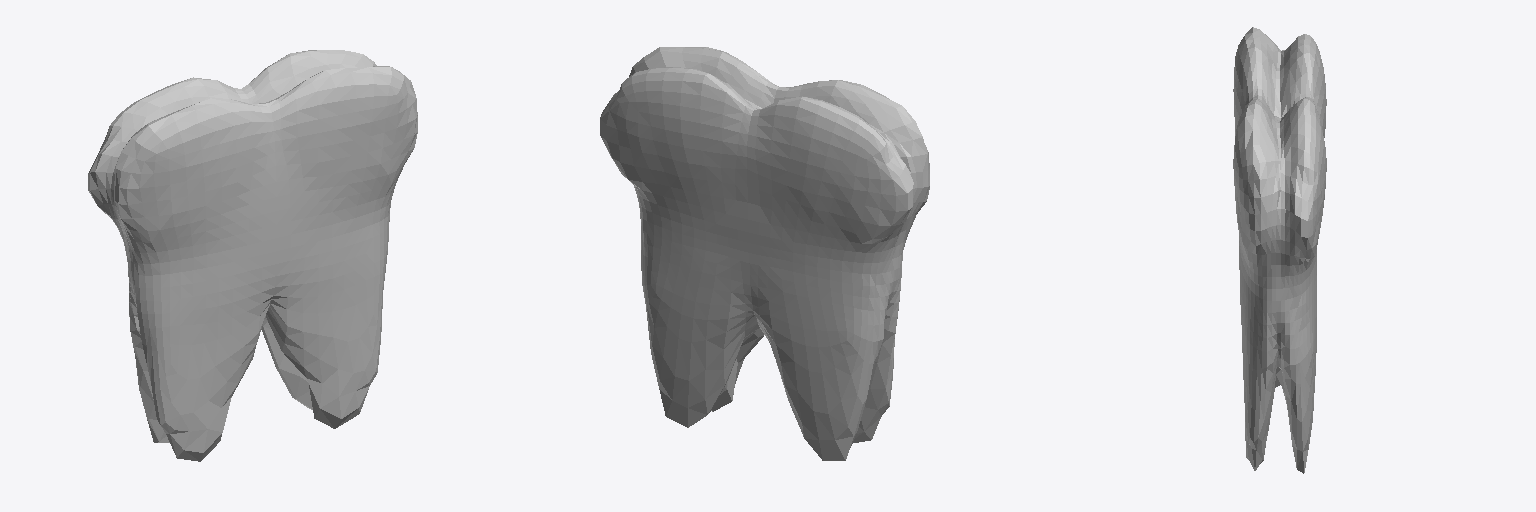
File: Tooth.obj
3 renders of one model, left to right at view 1: azimuth 30°, elevation 25°; view 2: azimuth 150°, elevation 25°; view 3: azimuth 270°, elevation 25°, orthographic.
Visible parts, largest first — view 1: Meshestooth1; view 2: Meshestooth1; view 3: Meshestooth1.
Boxes of the visible parts, x1=… form: Meshestooth1: x1=88, y1=50, x2=417, y2=461; Meshestooth1: x1=600, y1=47, x2=929, y2=460; Meshestooth1: x1=1233, y1=27, x2=1326, y2=473.
Bounding box in the file's own units: 0.9204 × 1.02 × 0.2399.